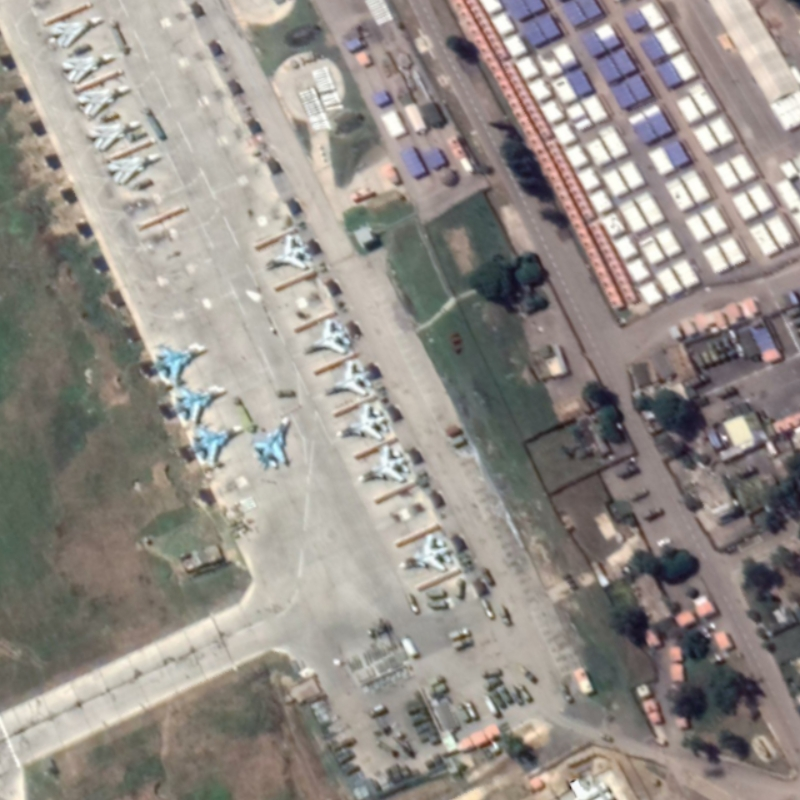A1: (300, 314, 354, 358), (322, 357, 375, 400), (263, 233, 314, 273)
A19: (149, 337, 208, 385), (184, 423, 245, 469), (250, 414, 298, 472), (166, 382, 229, 425), (330, 399, 394, 441), (355, 443, 413, 487), (398, 531, 457, 574)
A20: (45, 10, 103, 49), (82, 118, 143, 153), (74, 83, 133, 119), (106, 152, 165, 188), (59, 51, 119, 83)
